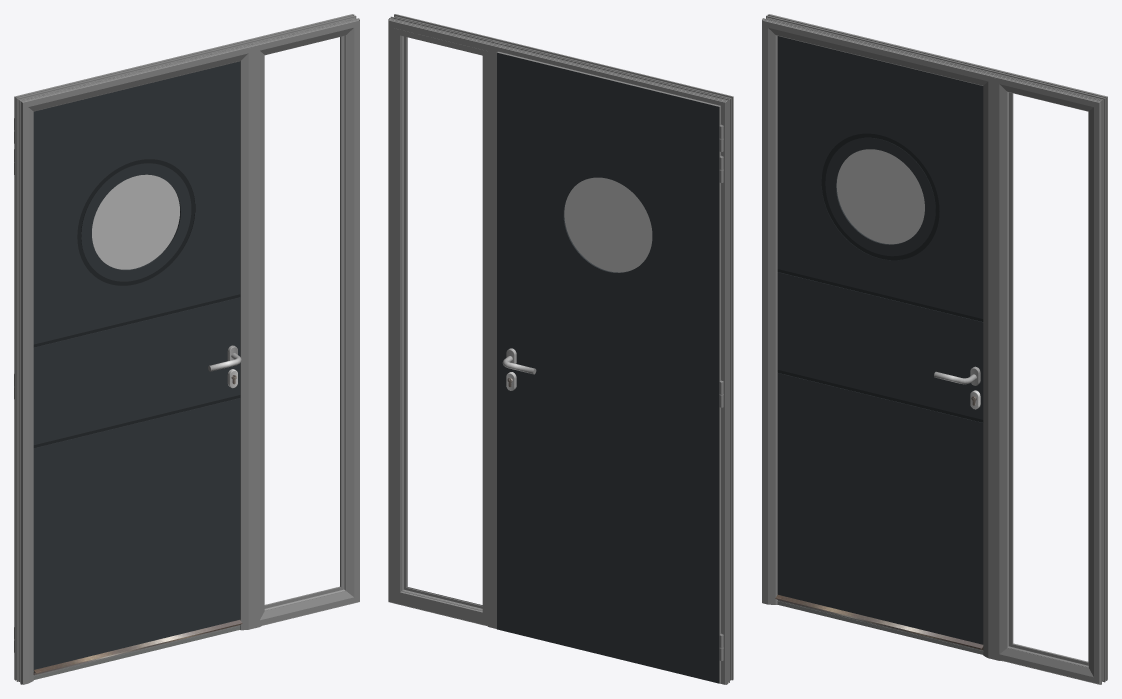
3 renders of one model, left to right at view 1: azimuth 30°, elevation 25°; view 2: azimuth 150°, elevation 25°; view 3: azimuth 330°, elevation 25°, orthographic.
Visible parts, largest first — view 1: bloco_102, Rectangle002, Line004, Vidro Porta, Object, Object001, Line005, Rectangle005, Rectangle003; view 2: bloco_102, Rectangle002, Rectangle003, Vidro Porta, Line004, Object001, Rectangle004, Object; view 3: bloco_102, Rectangle002, Line004, Vidro Porta, Object001, Object, Line005, Rectangle003, Rectangle005.
Part boxes in pixels (x1,y1,x2,y2): bloco_102: (33,61,240,671); Rectangle002: (14,14,359,684); Line004: (240,46,264,630); Vidro Porta: (92,174,179,269); Object: (33,35,346,680); Object001: (264,36,344,608); Line005: (33,620,242,674); Rectangle005: (33,625,240,679); Rectangle003: (264,37,340,605); bloco_102: (497,52,719,683); Rectangle002: (388,14,733,684); Rectangle003: (394,28,487,619); Vidro Porta: (564,177,652,272); Line004: (488,41,504,628); Object001: (401,36,482,610); Rectangle004: (496,51,720,683); Object: (404,36,482,608); bloco_102: (777,36,983,644); Rectangle002: (762,14,1107,684); Line004: (983,77,1007,661); Vidro Porta: (836,149,924,244); Object001: (1007,92,1088,665); Object: (776,35,1088,667); Line005: (775,595,983,649); Rectangle003: (1012,93,1087,662); Rectangle005: (777,600,983,654).
Size of the model in its own units: 1307 by 2150 by 192.
8 materials, 5 textured.
